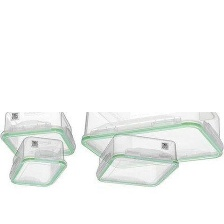plastic_box: (75, 111, 224, 172), (90, 130, 183, 193), (5, 132, 70, 193), (0, 111, 79, 161)
